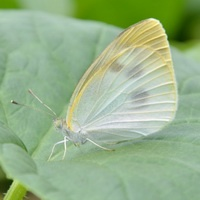insect: (41, 19, 176, 150)
